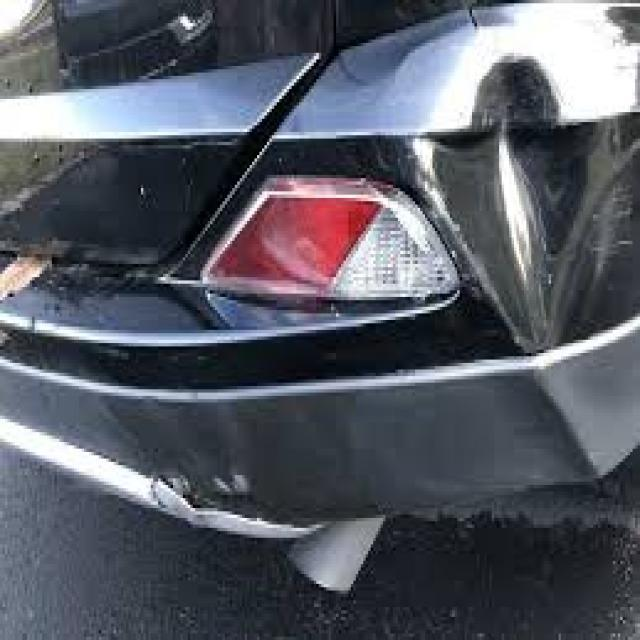dent-or-scratch: (417, 49, 640, 352)
